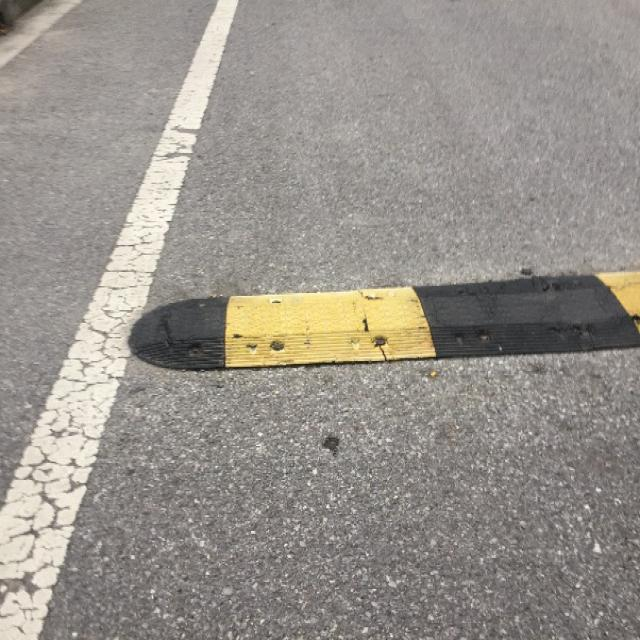Speed Bump: (107, 260, 636, 380)
